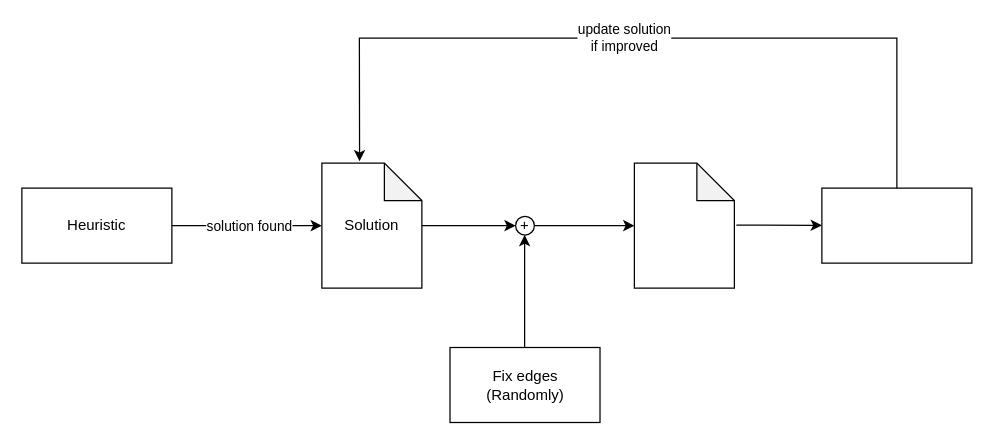
The diagram is 994 pixels wide and 445 high, and some of its shapes have lost their labels. The shapes that lost their labels are listed below. From the top down, each one's centre as x and y in pixels, then its label:
At [683,225]: "ILP".
At [896,225]: "MIP Solver".
